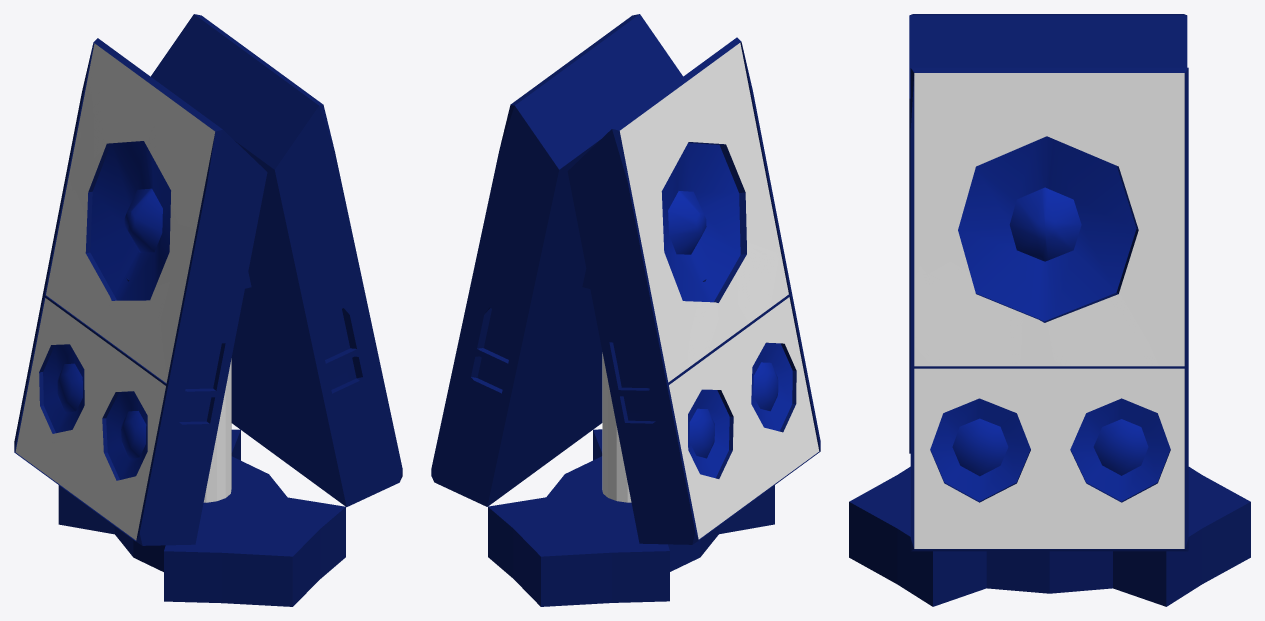
File: AltavozUpgraded.fbx
The picture shows the model from 3 angles, left to right: view 1: azimuth 30°, elevation 25°; view 2: azimuth 150°, elevation 25°; view 3: azimuth 270°, elevation 25°; orthographic projection. The views are drawn at different scales.
Visible parts, largest first — view 1: Object001, Cylinder001; view 2: Object001, Cylinder001; view 3: Object001, Cylinder001.
Boxes of the visible parts, x1,y1,x2,y2 form: Object001: (14, 14, 402, 545); Cylinder001: (58, 272, 345, 606); Object001: (431, 14, 820, 544); Cylinder001: (488, 269, 774, 606); Object001: (909, 14, 1188, 551); Cylinder001: (849, 466, 1250, 606).
Bounding box in the file's own units: 77.1 × 129 × 90.44.
